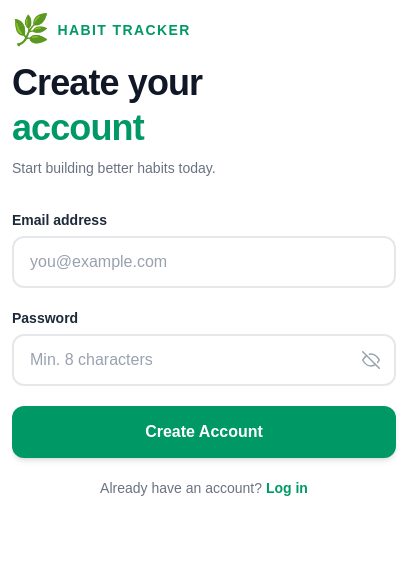
it: auth flow › shows an error for duplicate signup email
Type "dup@example.com" into the field with test id "auth-signup-email" at (204, 262), box [12,236,396,288]
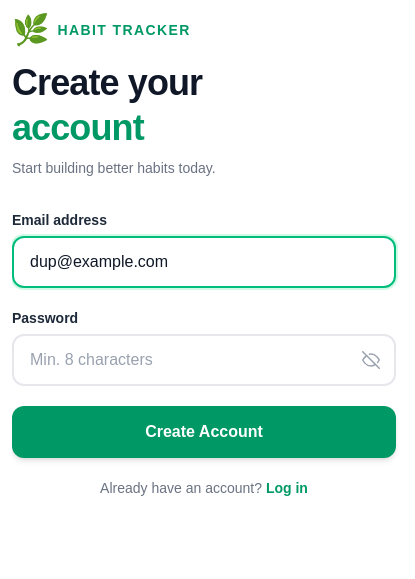
Type "pass" into the password field with test id "auth-signup-password" at (204, 360), box [12,334,396,386]
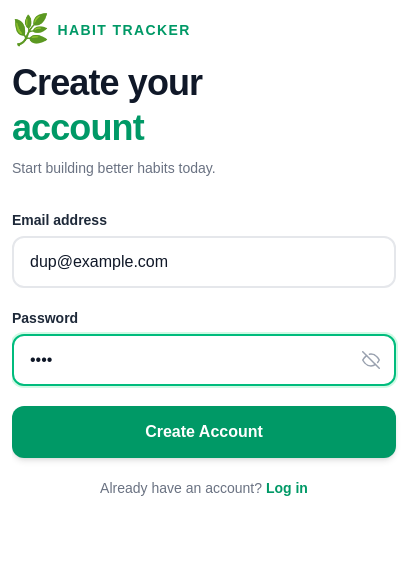
Click the button with test id "auth-signup-submit" at (204, 432), box [12,406,396,458]
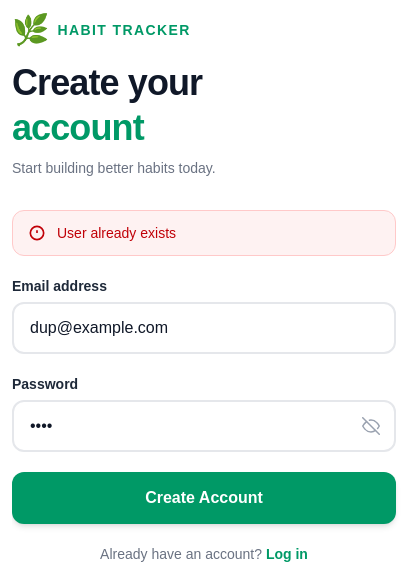
Now the message reads "User already exists", box [57,225,176,241]
